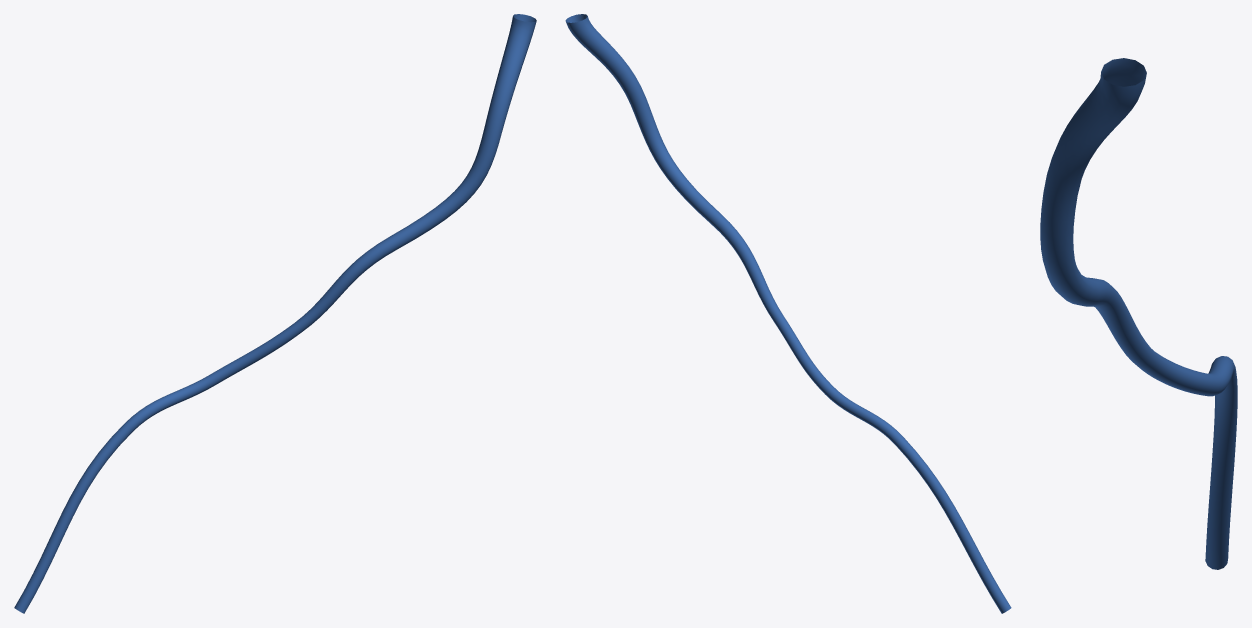
The picture shows the model from 3 angles, left to right: view 1: azimuth 30°, elevation 25°; view 2: azimuth 150°, elevation 25°; view 3: azimuth 270°, elevation 25°; orthographic projection. The views are drawn at different scales.
Visible parts, largest first — view 1: 左侧岩上窦; view 2: 左侧岩上窦; view 3: 左侧岩上窦.
Part boxes in pixels (x1=…): 左侧岩上窦: x1=14, y1=14, x2=536, y2=613; 左侧岩上窦: x1=565, y1=14, x2=1011, y2=613; 左侧岩上窦: x1=1040, y1=58, x2=1237, y2=569.
Size of the model in its own units: 0.0691 by 0.0666 by 0.0127.
